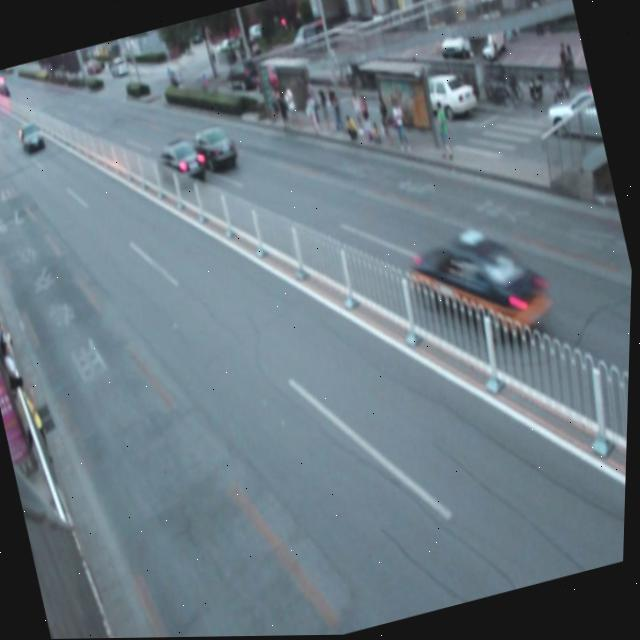car: (400, 213, 560, 365), (149, 135, 209, 195), (185, 123, 241, 179)
